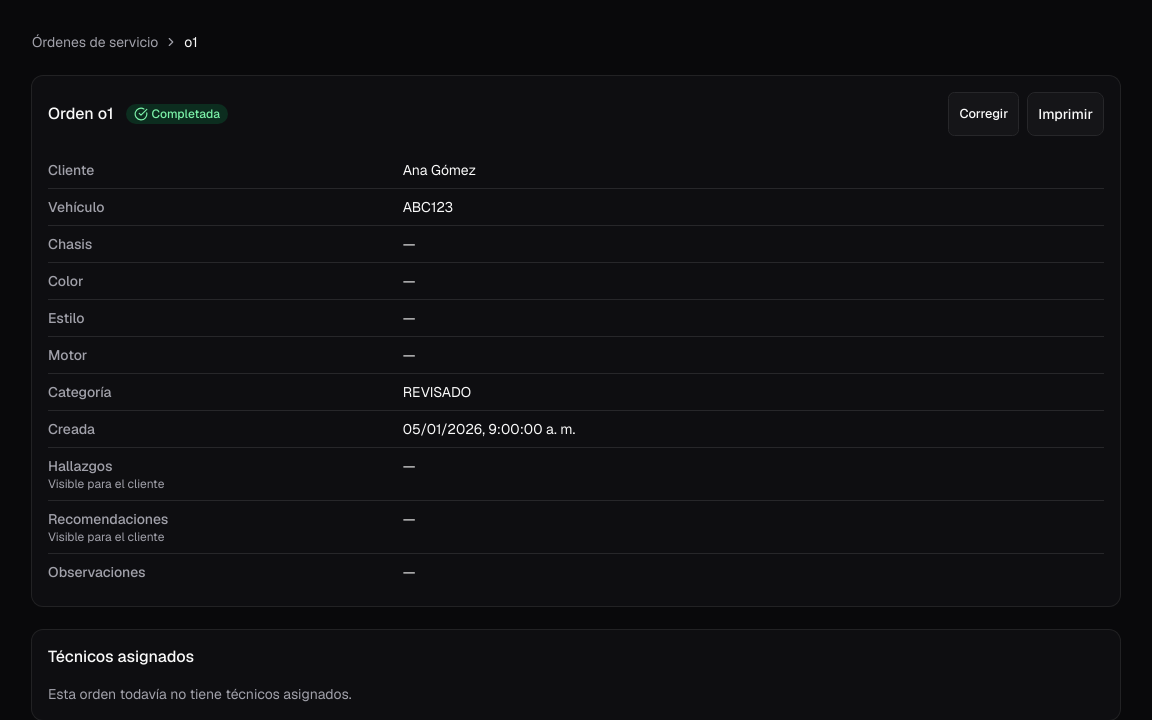
it: ServiceOrderDetailPage — the edit control (D11) › opens Corregir on a form that asks for the password
Click the button "Corregir". click: point(984, 114)
box: [948,92,1019,136]
(page scrolled)
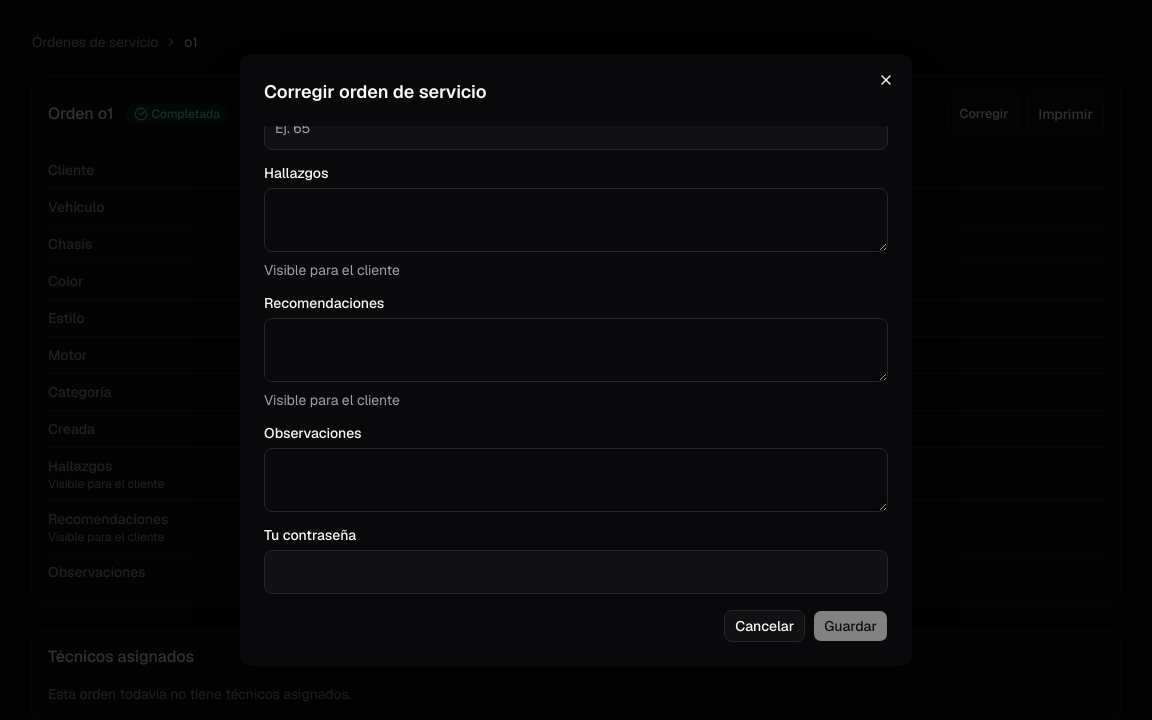
Expected: the dialog "Corregir orden de servicio" is shown, [240,54,912,666]
